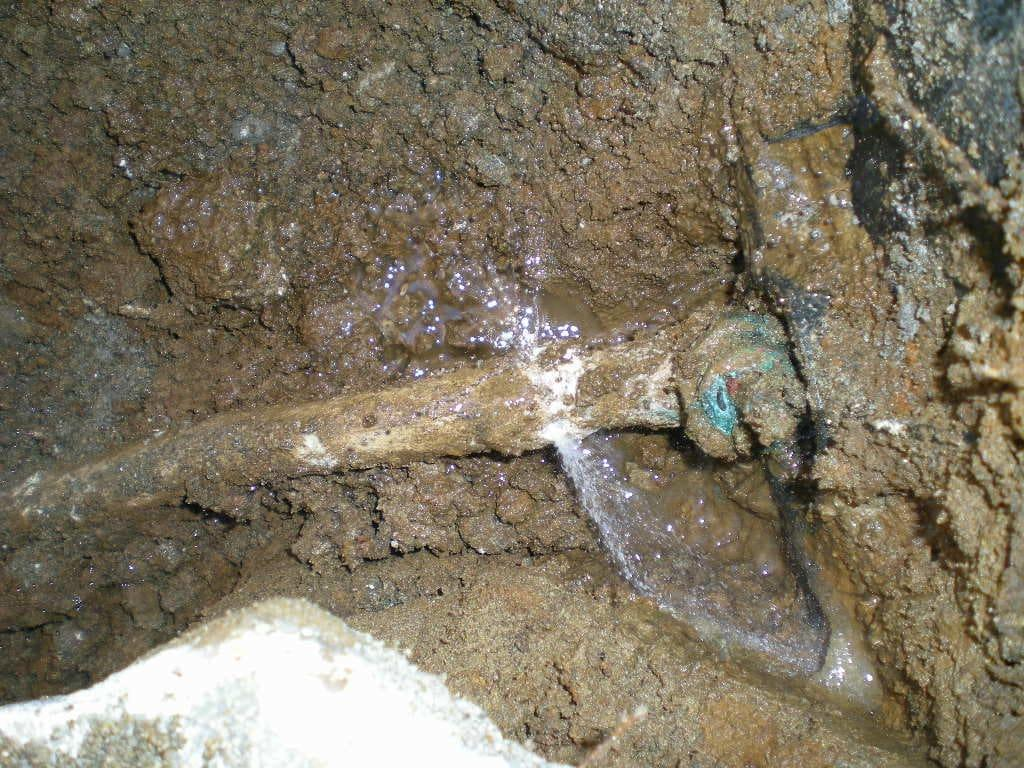pipe burst: (536, 410, 684, 606)
water accumulation: (597, 431, 836, 684), (387, 265, 597, 369)
